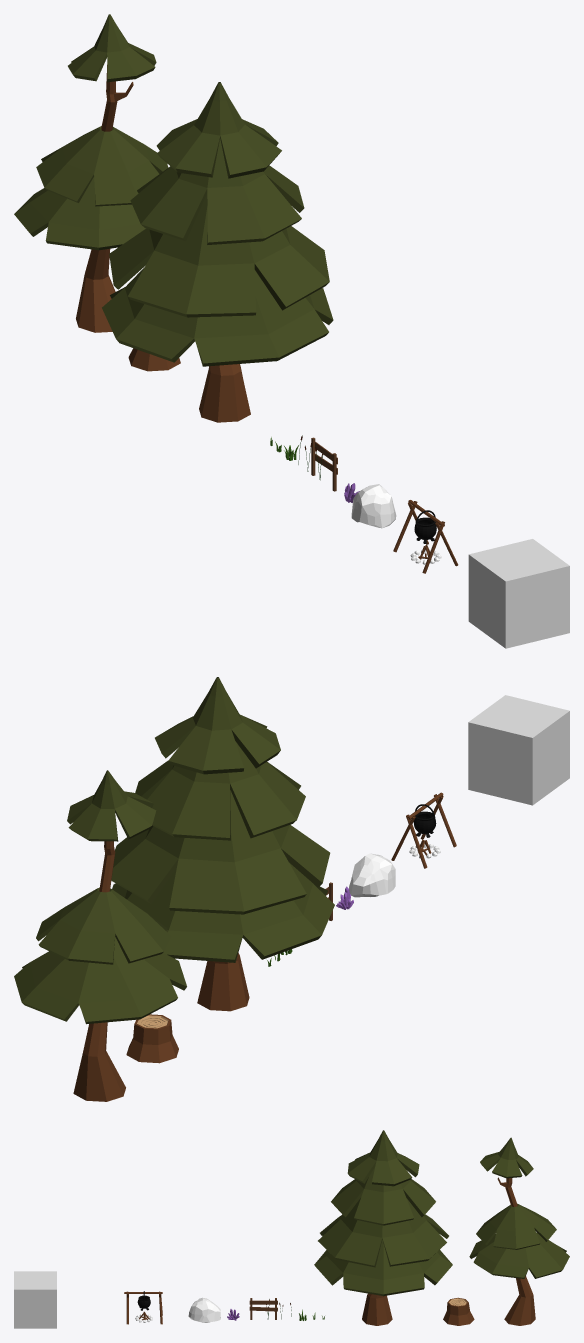
Rendered from Assets_Parciales.fbx.
3 renders of one model, top to bottom at view 1: azimuth 30°, elevation 25°; view 2: azimuth 150°, elevation 25°; view 3: azimuth 270°, elevation 25°, orthographic. The views are drawn at different scales.
Visible parts, largest first — view 1: Arbol_1, Arbol_2, Altura, Caldero_Fogata, Piedra; view 2: Arbol_1, Arbol_2, Altura, Arbol_Tronco, Piedra, Caldero_Fogata; view 3: Arbol_1, Arbol_2, Altura, Arbol_Tronco, Piedra, Caldero_Fogata, Valla.
Boxes of the visible parts, x1,y1,x2,y2 form: Arbol_1: (102,82,333,422); Arbol_2: (14,14,168,332); Altura: (468,539,569,648); Caldero_Fogata: (393,500,458,573); Piedra: (351,484,396,528); Arbol_1: (111,677,334,1011); Arbol_2: (14,770,186,1101); Altura: (468,695,569,805); Arbol_Tronco: (126,1014,178,1063); Piedra: (349,853,395,897); Caldero_Fogata: (391,792,456,868); Arbol_1: (314,1130,452,1325); Arbol_2: (469,1137,569,1325); Altura: (14,1271,56,1328); Arbol_Tronco: (443,1297,474,1325); Piedra: (188,1297,220,1322); Caldero_Fogata: (124,1291,162,1324); Valla: (249,1298,277,1319).
Bounding box in the file's own units: 581 × 873 × 2325.
